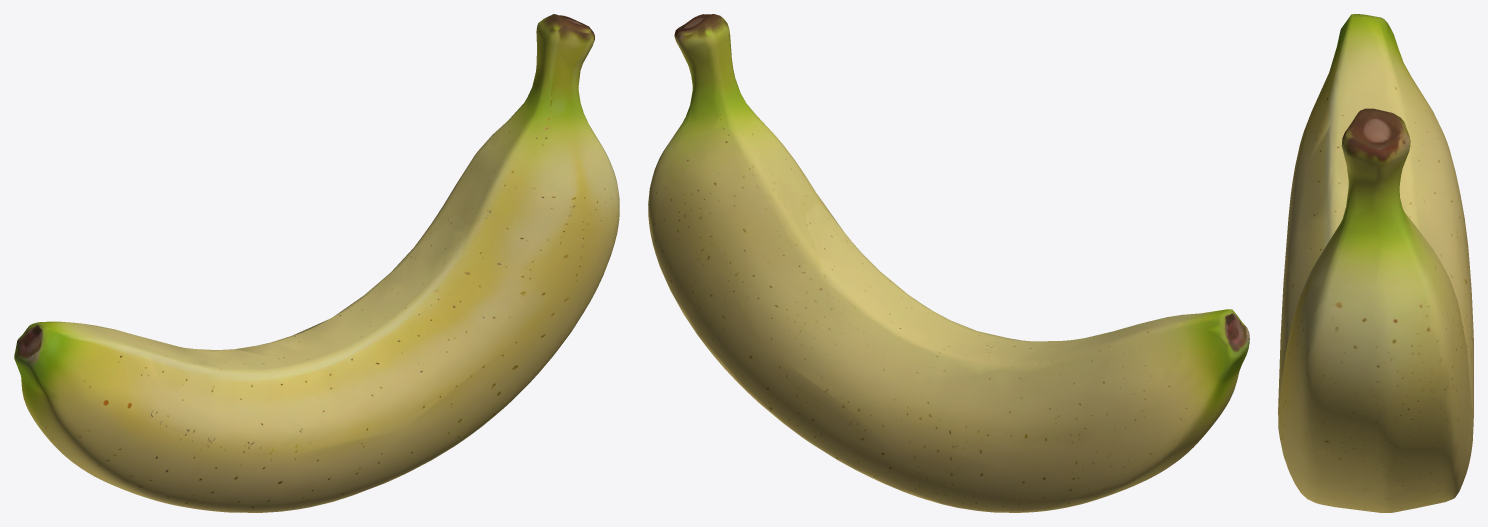
Rendered from banana.glb.
3 views of the same model, side by side, from view 1: azimuth 30°, elevation 25°; view 2: azimuth 150°, elevation 25°; view 3: azimuth 270°, elevation 25° (orthographic). The views are drawn at different scales.
Visible parts, largest first — view 1: material; view 2: material; view 3: material.
Part boxes in pixels (x1=…): material: x1=14, y1=14, x2=619, y2=512; material: x1=648, y1=14, x2=1249, y2=512; material: x1=1278, y1=14, x2=1473, y2=512.
Bounding box in the file's own units: 1.06 × 0.7186 × 0.247.
1 material, 1 textured.
